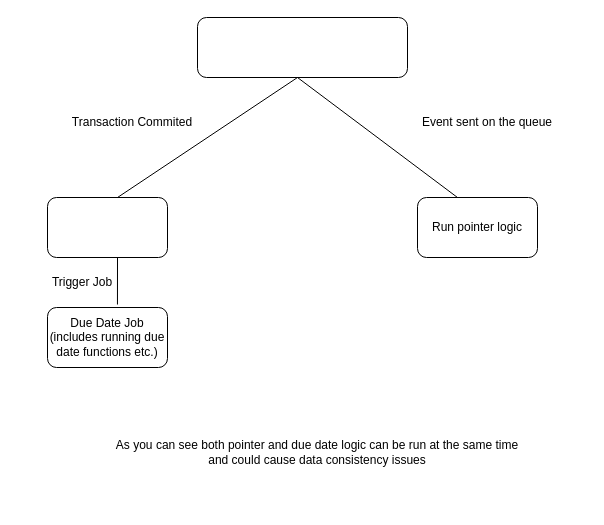
The diagram is 604 pixels wide and 525 high, and some of its shapes have lost their labels. The shapes that lost their labels are listed below. From the top down, each one's box as (x1, y1, x2, y2) in pixels, then its label:
(196, 16, 408, 78): Create New Object transaction
(46, 196, 168, 258): Update due date
